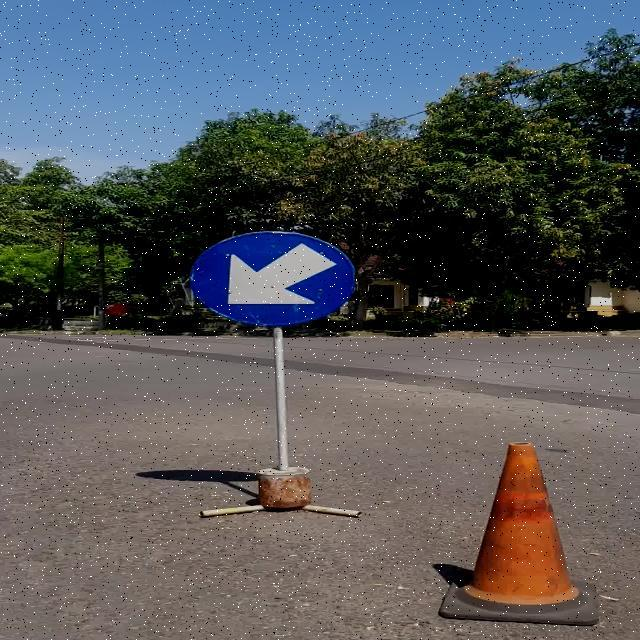Lajur Kiri: (190, 231, 354, 326)
